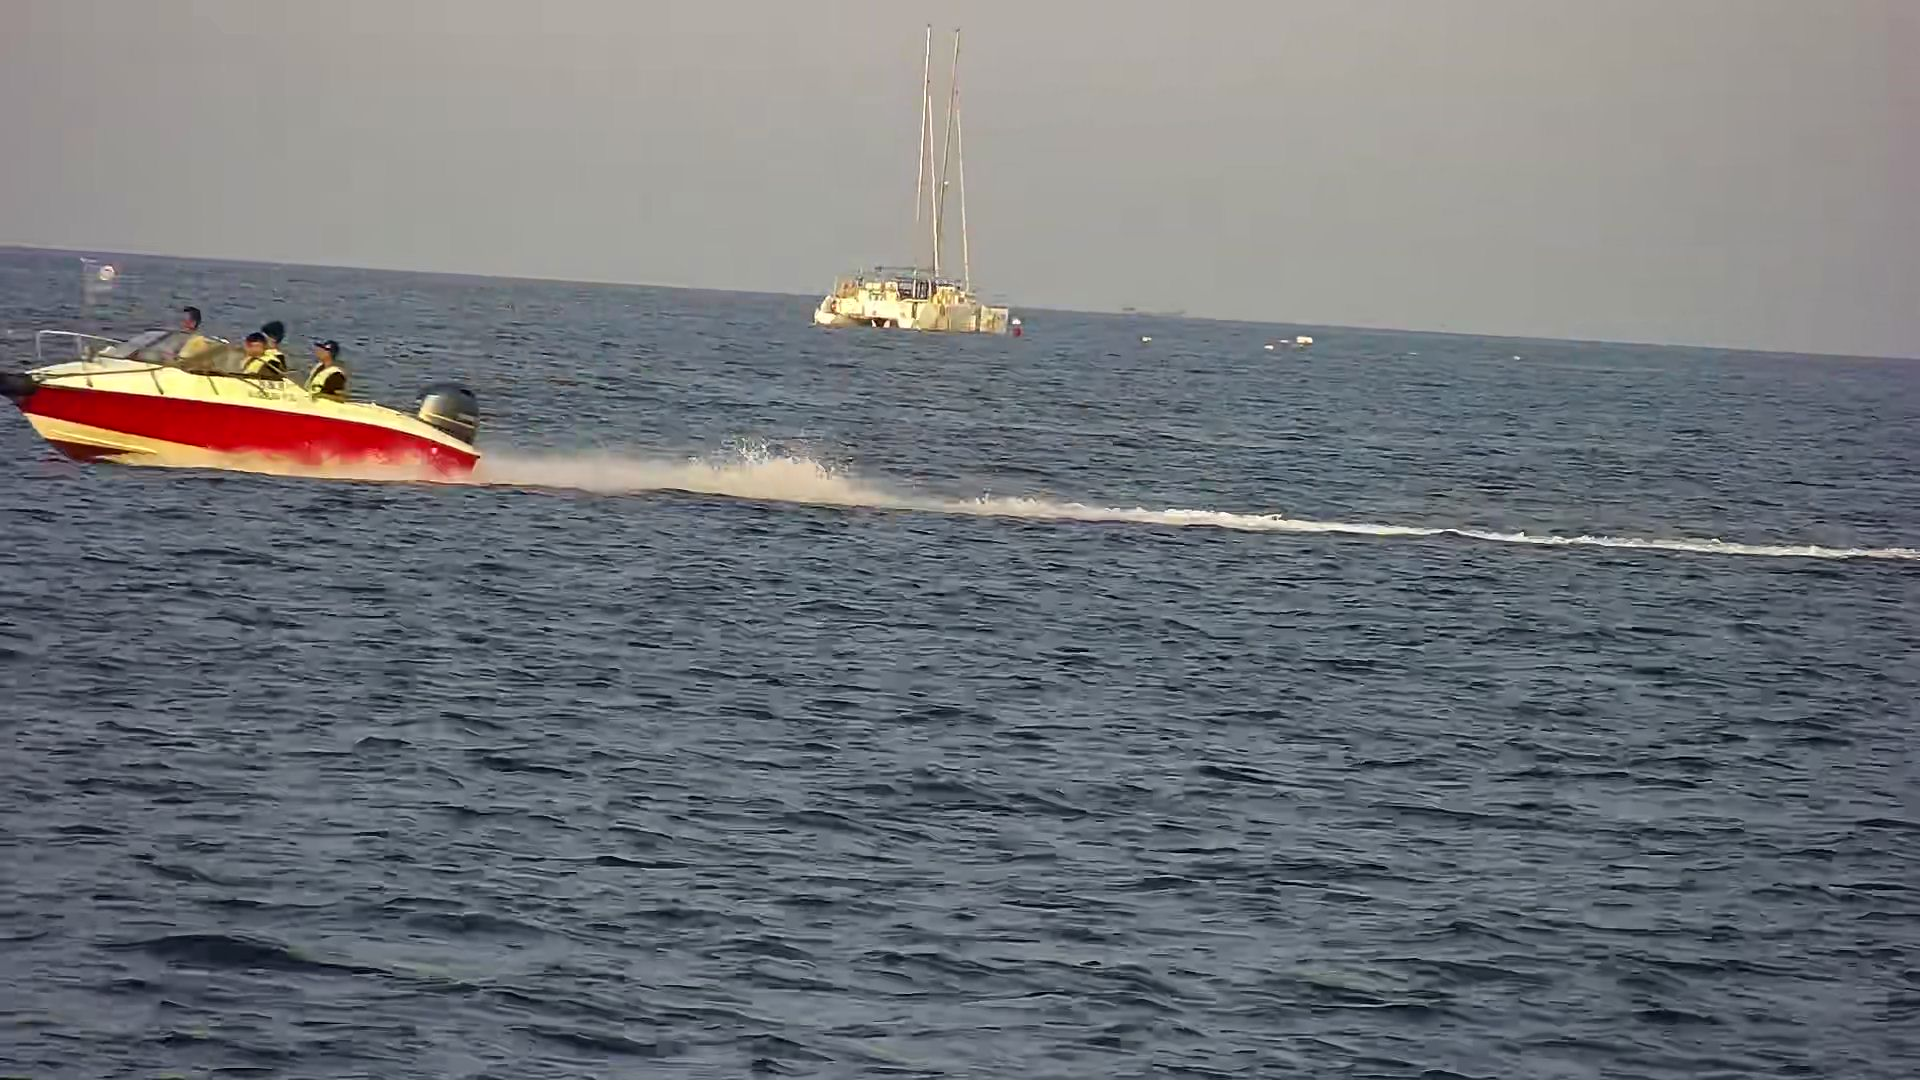boat: (3, 303, 495, 496)
platform: (811, 21, 1027, 347)
